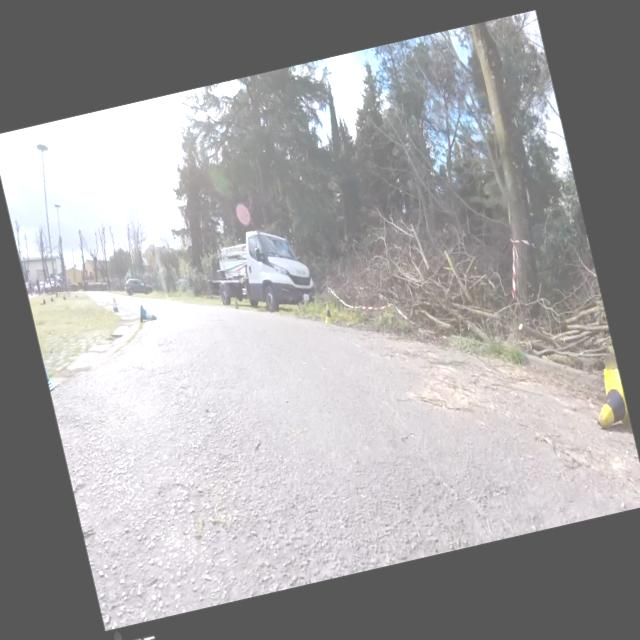blue_cone: (136, 301, 156, 322), (109, 296, 119, 314)
unknown_cone: (232, 296, 239, 309), (38, 298, 46, 306), (50, 296, 55, 302), (62, 294, 66, 300)
yellow_cone: (586, 364, 630, 430), (320, 302, 334, 325)
